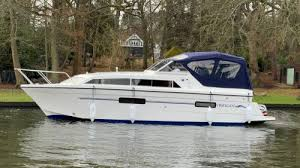boat: (15, 51, 277, 126)
